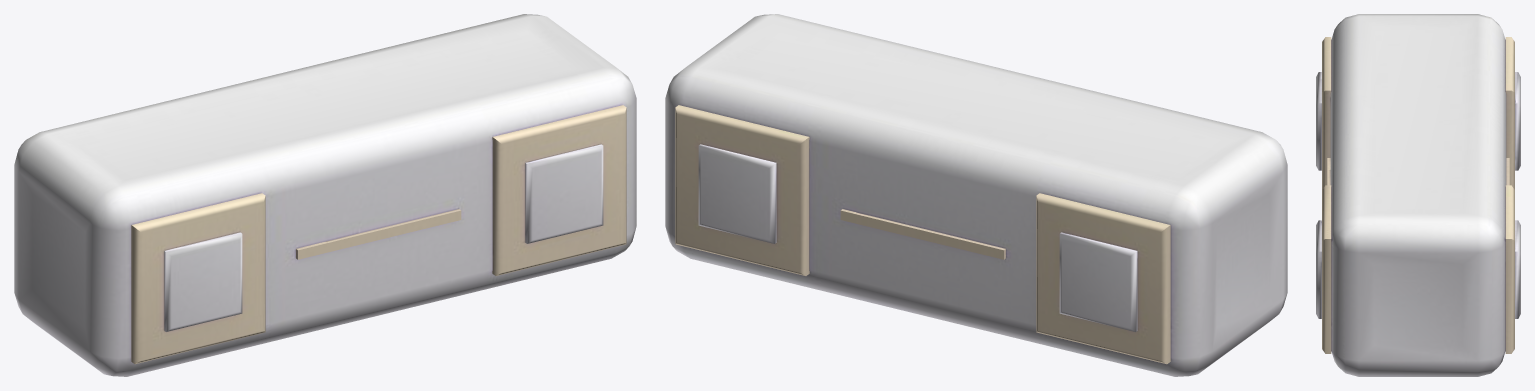
File: kiris3.glb
The picture shows the model from 3 angles, left to right: view 1: azimuth 30°, elevation 25°; view 2: azimuth 150°, elevation 25°; view 3: azimuth 270°, elevation 25°; orthographic projection. The views are drawn at different scales.
Visible parts, largest first — view 1: kiris3; view 2: kiris3; view 3: kiris3.
Part boxes in pixels (<box>): kiris3: <box>14,14,636,376</box>; kiris3: <box>665,14,1287,376</box>; kiris3: <box>1316,14,1520,376</box>.
Bounding box in the file's own units: 4.63 × 1.54 × 1.8.
Materials: 1 (1 with a texture image).
